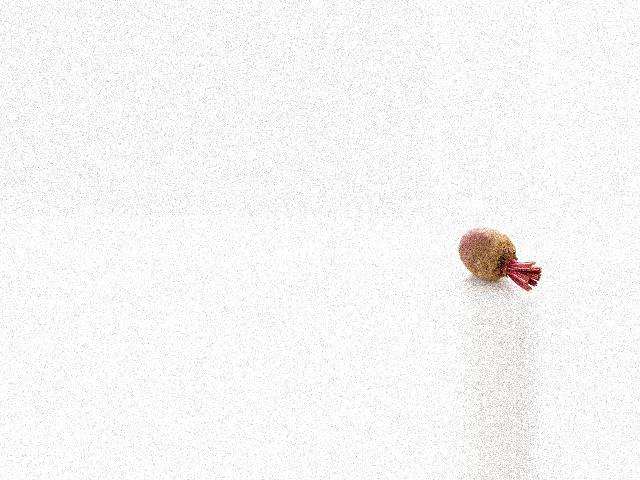beet: (457, 227, 541, 292)
